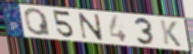3: (134, 17, 155, 46)
4: (109, 14, 128, 44)
5: (52, 9, 75, 39)
K: (158, 19, 183, 49)
N: (77, 12, 105, 42)
Q: (23, 8, 52, 37)
